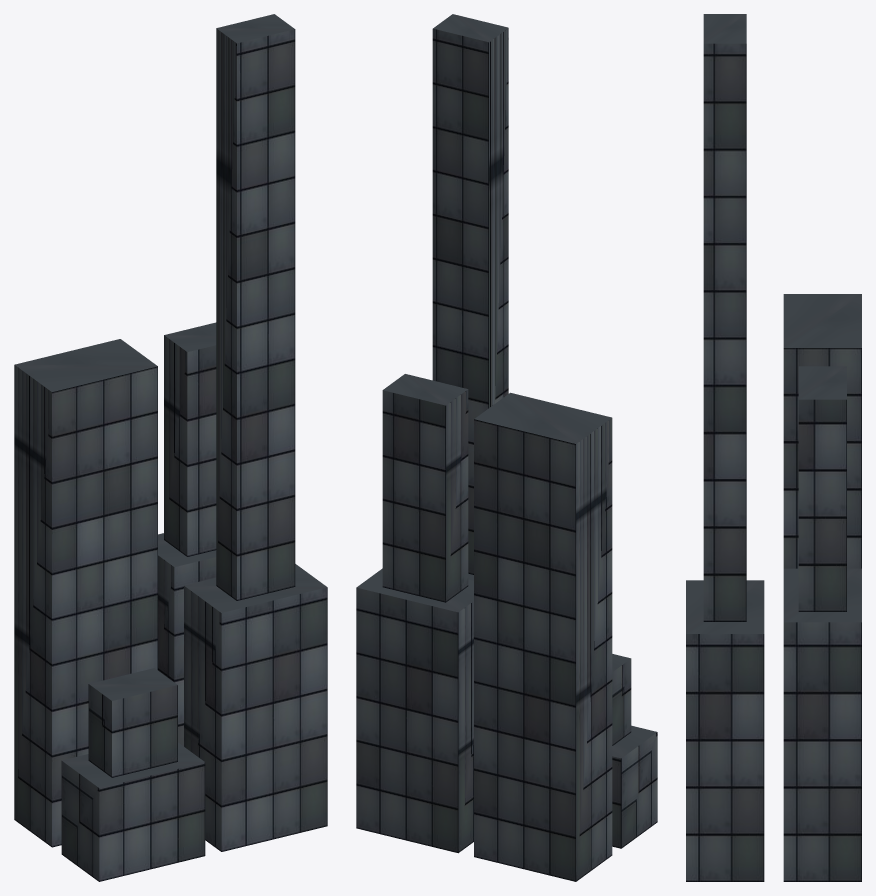
Rendered from block_03.obj.
The picture shows the model from 3 angles, left to right: view 1: azimuth 30°, elevation 25°; view 2: azimuth 150°, elevation 25°; view 3: azimuth 270°, elevation 25°; orthographic projection. The views are drawn at different scales.
Visible parts, largest first — view 1: b3, b0, b1, b2; view 2: b0, b2, b3, b1; view 3: b3, b2, b0.
Part boxes in pixels (x1,y1,x2,y2): b3: (184,14,327,851); b0: (14,339,157,847); b1: (61,668,205,881); b2: (158,322,216,746); b0: (474,392,612,881); b2: (356,374,473,853); b3: (432,14,508,580); b1: (612,654,657,848); b3: (686,14,764,881); b2: (783,366,861,881); b0: (783,294,861,568).
Size of the model in its own units: 4.2 by 14 by 2.7.
